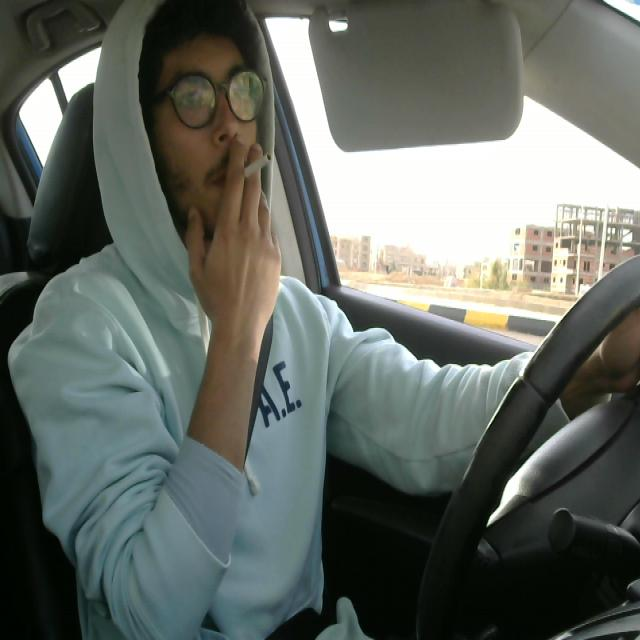smoking: (223, 145, 278, 185)
